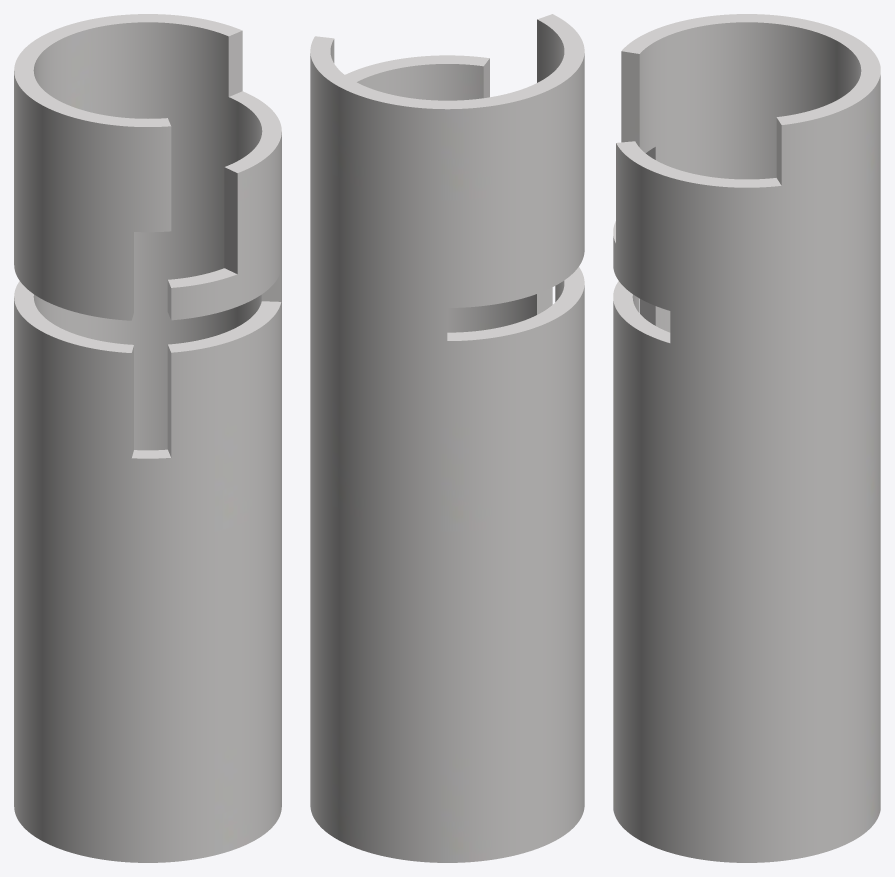
File: 01_kral_bila.glb
3 views of the same model, side by side, from view 1: azimuth 30°, elevation 25°; view 2: azimuth 150°, elevation 25°; view 3: azimuth 270°, elevation 25° (orthographic). The views are drawn at different scales.
Parts seen in each view (by area): view 1: 01_kral_bila; view 2: 01_kral_bila; view 3: 01_kral_bila.
Boxes of the visible parts, left/top/right/bottom form: 01_kral_bila: left=14, top=14, right=281, bottom=862; 01_kral_bila: left=310, top=14, right=584, bottom=862; 01_kral_bila: left=613, top=14, right=880, bottom=862.
Bounding box in the file's own units: 0.03 × 0.091 × 0.03.
Materials: 1 (1 with a texture image).
